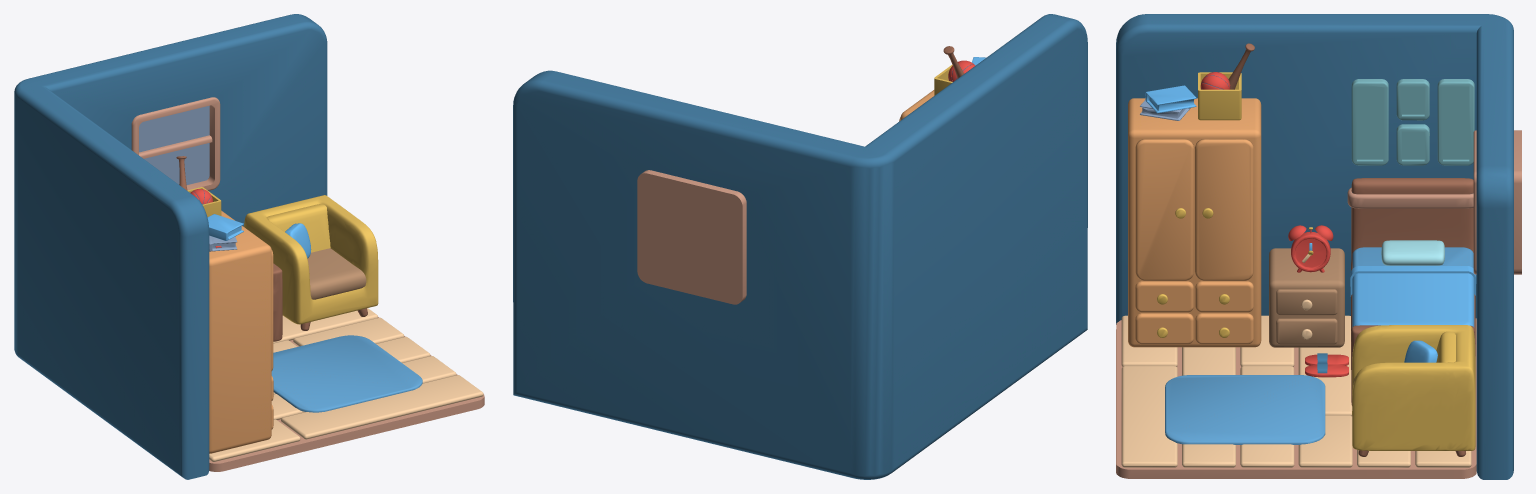
File: badroom.glb
The picture shows the model from 3 angles, left to right: view 1: azimuth 30°, elevation 25°; view 2: azimuth 150°, elevation 25°; view 3: azimuth 270°, elevation 25°; orthographic projection. The views are drawn at different scales.
Visible parts, largest first — view 1: Mattress; view 2: Mattress; view 3: Mattress.
Part boxes in pixels (bbox=[...]): Mattress: bbox=[14, 14, 484, 479]; Mattress: bbox=[513, 14, 1087, 479]; Mattress: bbox=[1116, 14, 1521, 479].
Size of the model in its own units: 3 by 2.5 by 3.06.
Materials: 1 (1 with a texture image).
